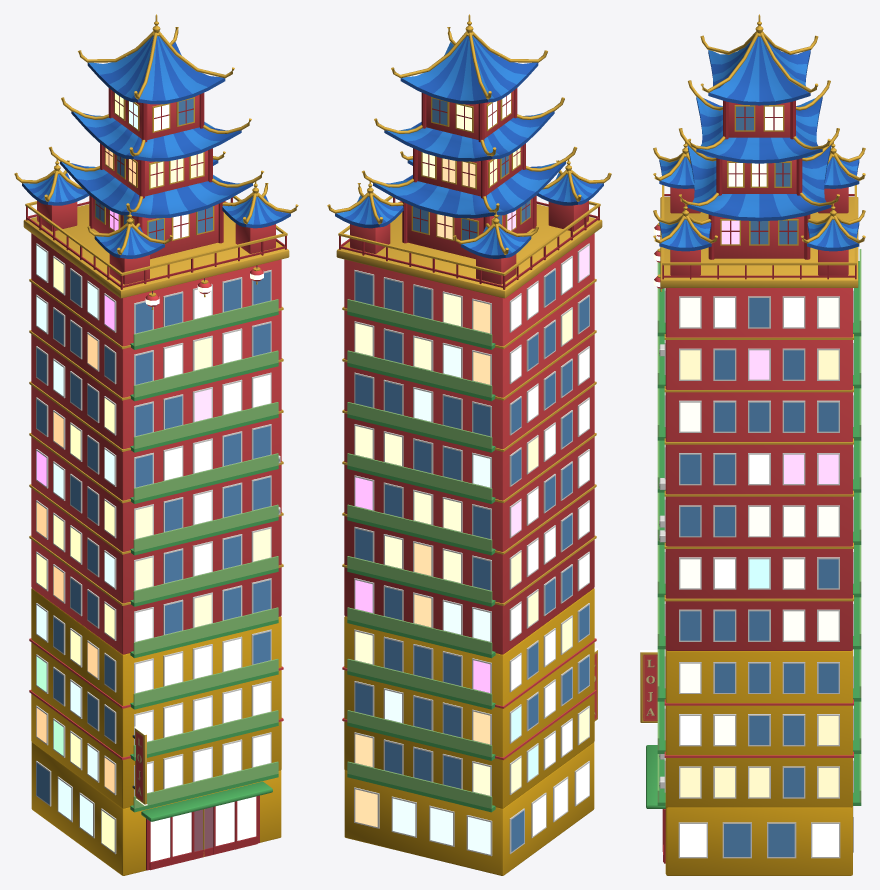
File: torre_pagode_sobre_predio.glb
3 renders of one model, left to right at view 1: azimuth 30°, elevation 25°; view 2: azimuth 150°, elevation 25°; view 3: azimuth 270°, elevation 25°, orthographic.
Parts seen in each view (by area): view 1: torre_pagode_sobre_predio; view 2: torre_pagode_sobre_predio; view 3: torre_pagode_sobre_predio.
Part boxes in pixels (x1=…): torre_pagode_sobre_predio: x1=14, y1=14, x2=298, y2=875; torre_pagode_sobre_predio: x1=327, y1=14, x2=611, y2=875; torre_pagode_sobre_predio: x1=640, y1=14, x2=865, y2=875.
Bounding box in the file's own units: 11.8 × 50.45 × 12.54.
Materials: 10 (2 with a texture image).
